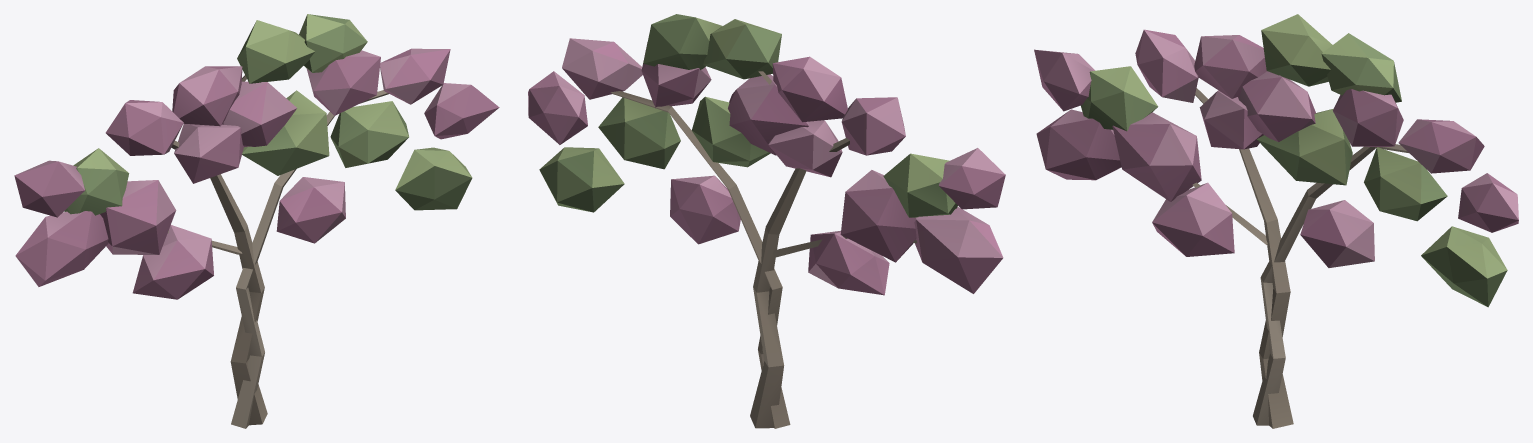
File: bougain.lod1.glb
3 views of the same model, side by side, from view 1: azimuth 30°, elevation 25°; view 2: azimuth 150°, elevation 25°; view 3: azimuth 330°, elevation 25° (orthographic). The views are drawn at different scales.
Bounding box in the file's own units: 4.42 × 3.5 × 0.4594.
